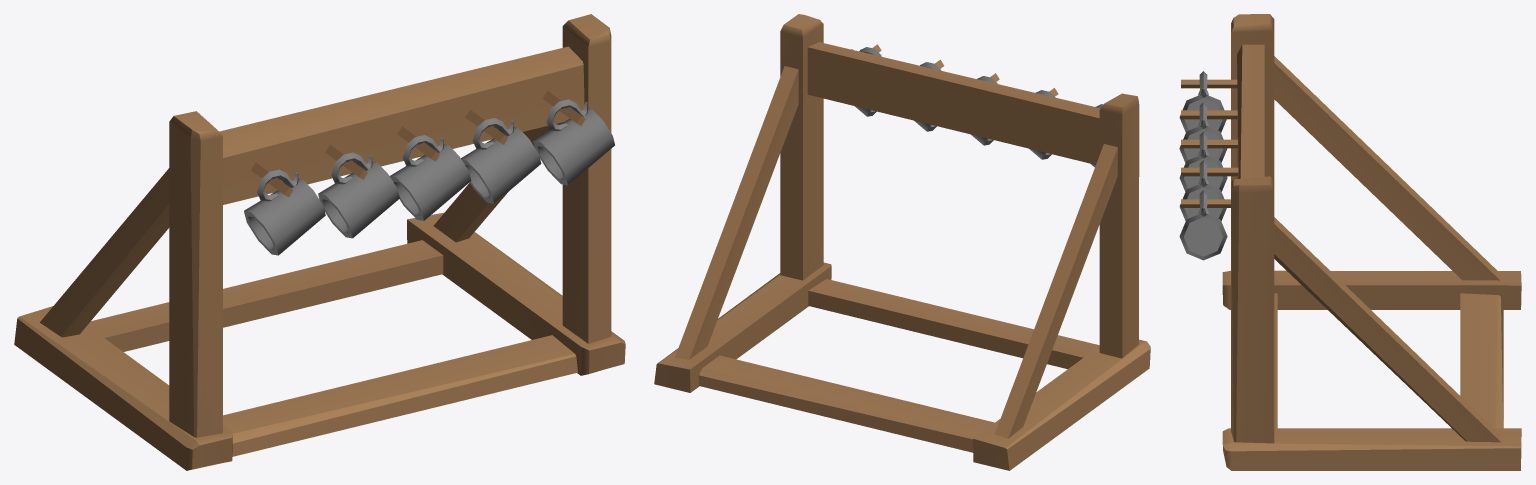
The model's file is Barrel_Prop_C.fbx.
3 renders of one model, left to right at view 1: azimuth 30°, elevation 25°; view 2: azimuth 150°, elevation 25°; view 3: azimuth 270°, elevation 25°, orthographic. The views are drawn at different scales.
Parts seen in each view (by area): view 1: Barrel_Prop_C; view 2: Barrel_Prop_C; view 3: Barrel_Prop_C.
Part boxes in pixels (<box>): Barrel_Prop_C: <box>14,14,625,470</box>; Barrel_Prop_C: <box>654,14,1150,470</box>; Barrel_Prop_C: <box>1179,14,1521,470</box>.
Size of the model in its own units: 149 by 109 by 120.
